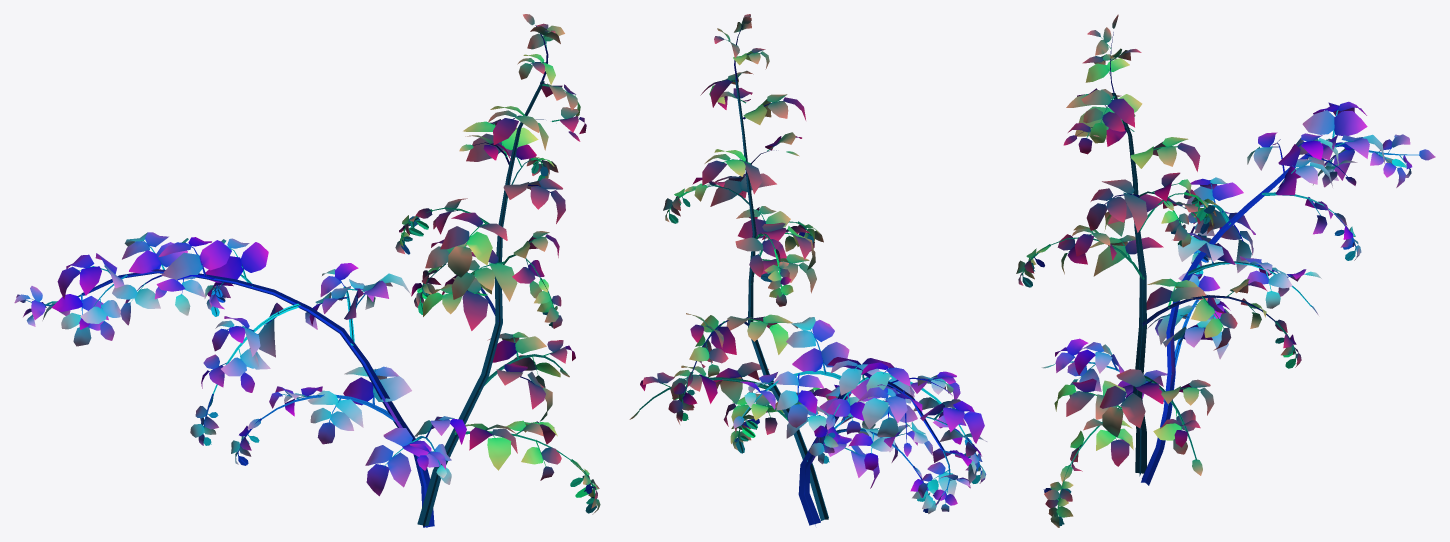
The model's file is Raspberry_wf0oefeja_High_wf0oefeja_VarF_LOD1.fbx.
The picture shows the model from 3 angles, left to right: view 1: azimuth 30°, elevation 25°; view 2: azimuth 150°, elevation 25°; view 3: azimuth 270°, elevation 25°; orthographic projection. The views are drawn at different scales.
Visible parts, largest first — view 1: _jgrm_VarF_LOD2; view 2: _jgrm_VarF_LOD2; view 3: _jgrm_VarF_LOD2.
Part boxes in pixels (box(x1,y1,x2,y2)): _jgrm_VarF_LOD2: box(14, 14, 600, 527); _jgrm_VarF_LOD2: box(629, 14, 987, 525); _jgrm_VarF_LOD2: box(1016, 14, 1435, 527).
Size of the model in its own units: 100 by 106 by 78.87.
